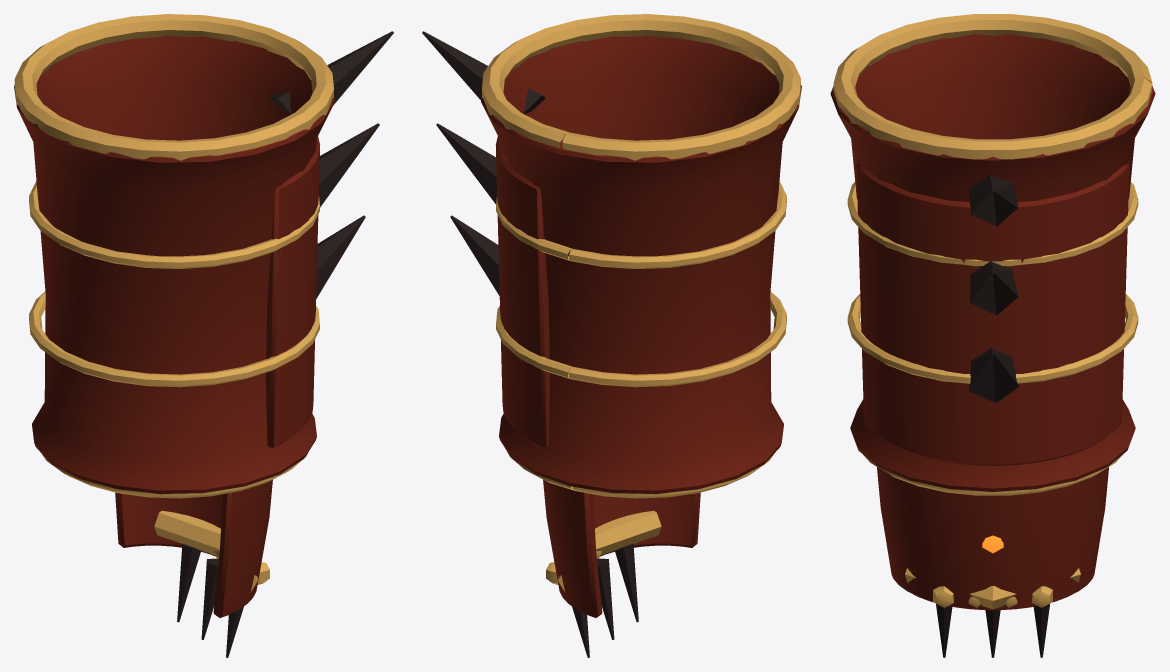
The model's file is boss_dragonforge_gloves_1.glb.
3 renders of one model, left to right at view 1: azimuth 30°, elevation 25°; view 2: azimuth 150°, elevation 25°; view 3: azimuth 270°, elevation 25°, orthographic.
Visible parts, largest first — view 1: boss_dragonforge_gloves_1, AT_hand_L; view 2: boss_dragonforge_gloves_1, AT_hand_L; view 3: boss_dragonforge_gloves_1, AT_hand_L.
Part boxes in pixels (<box>): boss_dragonforge_gloves_1: <box>14,14,393,498</box>; AT_hand_L: <box>115,479,272,657</box>; boss_dragonforge_gloves_1: <box>422,14,801,498</box>; AT_hand_L: <box>543,479,700,657</box>; boss_dragonforge_gloves_1: <box>830,14,1155,495</box>; AT_hand_L: <box>877,467,1108,657</box>.
Bounding box in the file's own units: 0.2539 × 0.385 × 0.2004.
